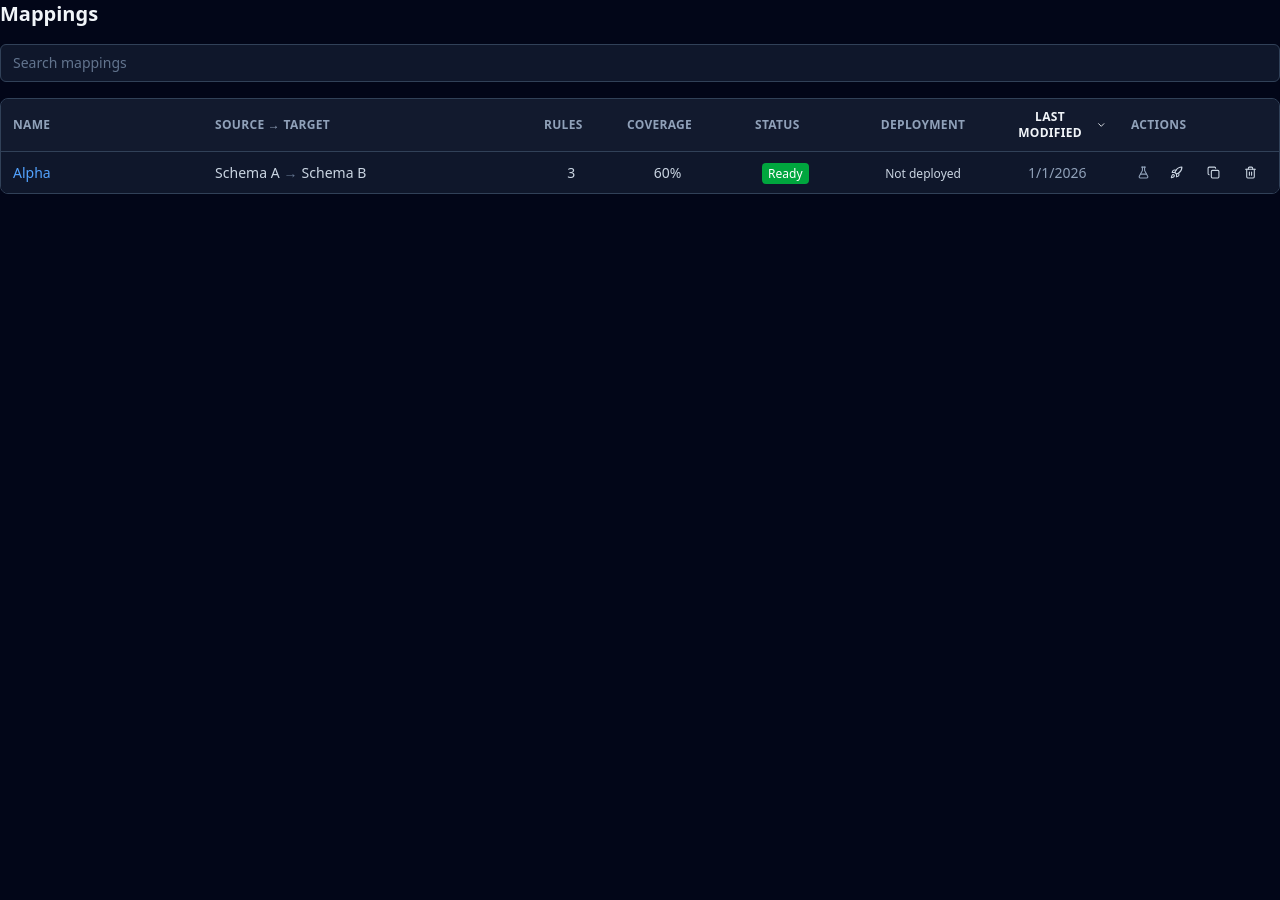
Test case: MappingListSection › clicking Delete icon opens confirmation dialog
The width and height of the screenshot is (1280, 900).
Click the button named "delete mapping alpha": [1250, 172] box [1234, 162, 1267, 183]
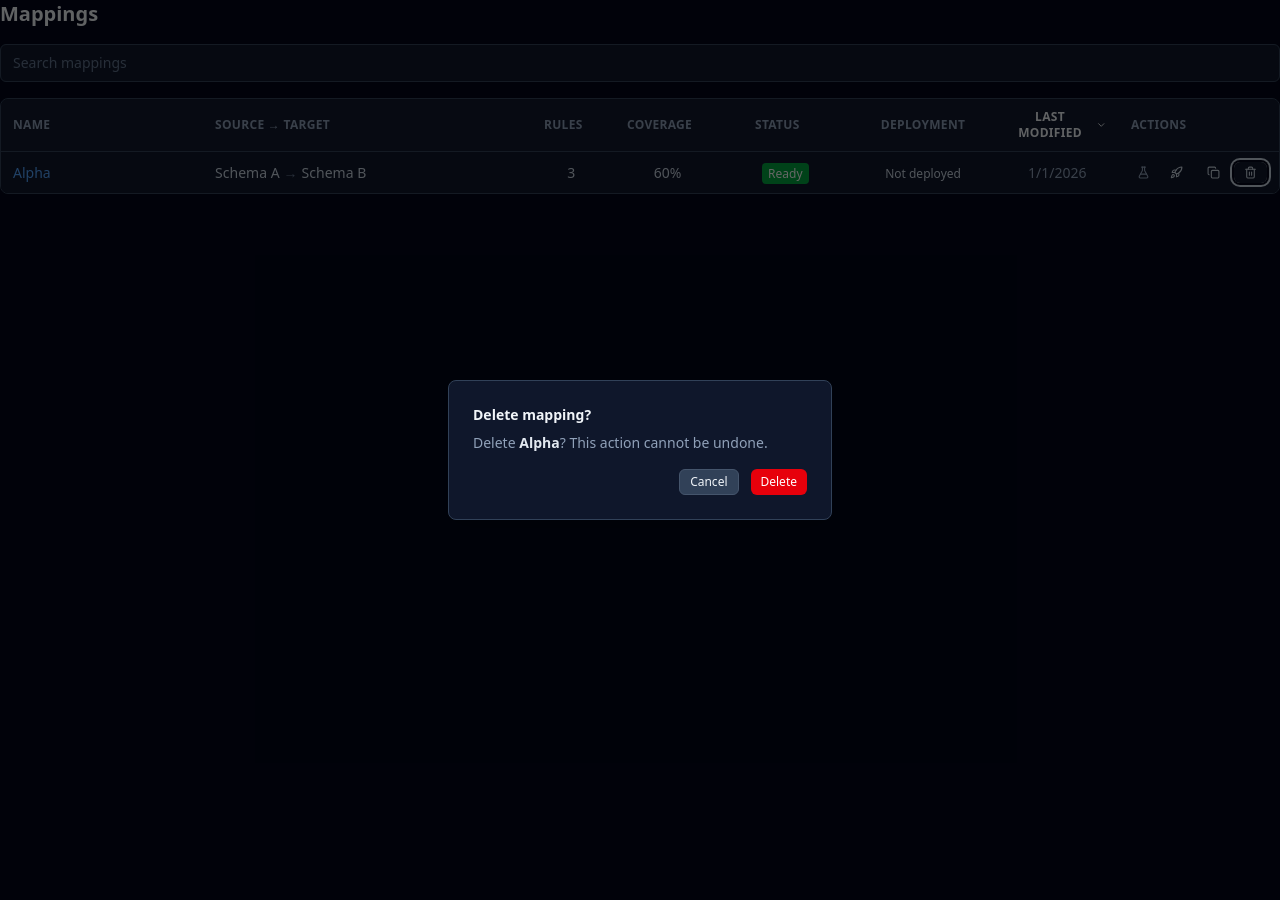
Now the dialog with test id "delete-confirm-dialog" is shown, box [448, 380, 832, 520]
Now the text "Alpha" is shown, box [519, 433, 560, 452]
